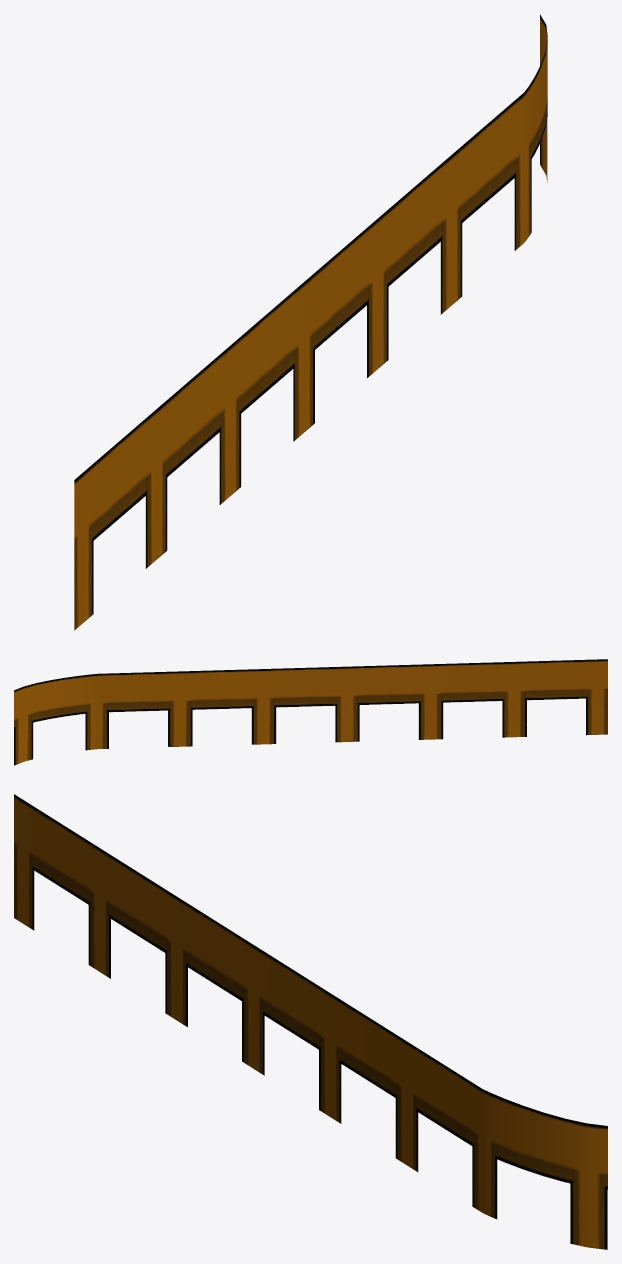
File: FenceGoalBend.FBX
The picture shows the model from 3 angles, top to bottom: view 1: azimuth 30°, elevation 25°; view 2: azimuth 150°, elevation 25°; view 3: azimuth 270°, elevation 25°; orthographic projection. The views are drawn at different scales.
Parts seen in each view (by area): view 1: Line019; view 2: Line019; view 3: Line019.
Boxes of the visible parts, left/top/right/bottom form: Line019: left=74, top=14, right=547, bottom=630; Line019: left=14, top=659, right=607, bottom=765; Line019: left=14, top=794, right=607, bottom=1249.
Size of the model in its own units: 3.39 by 0.5906 by 2.56.
